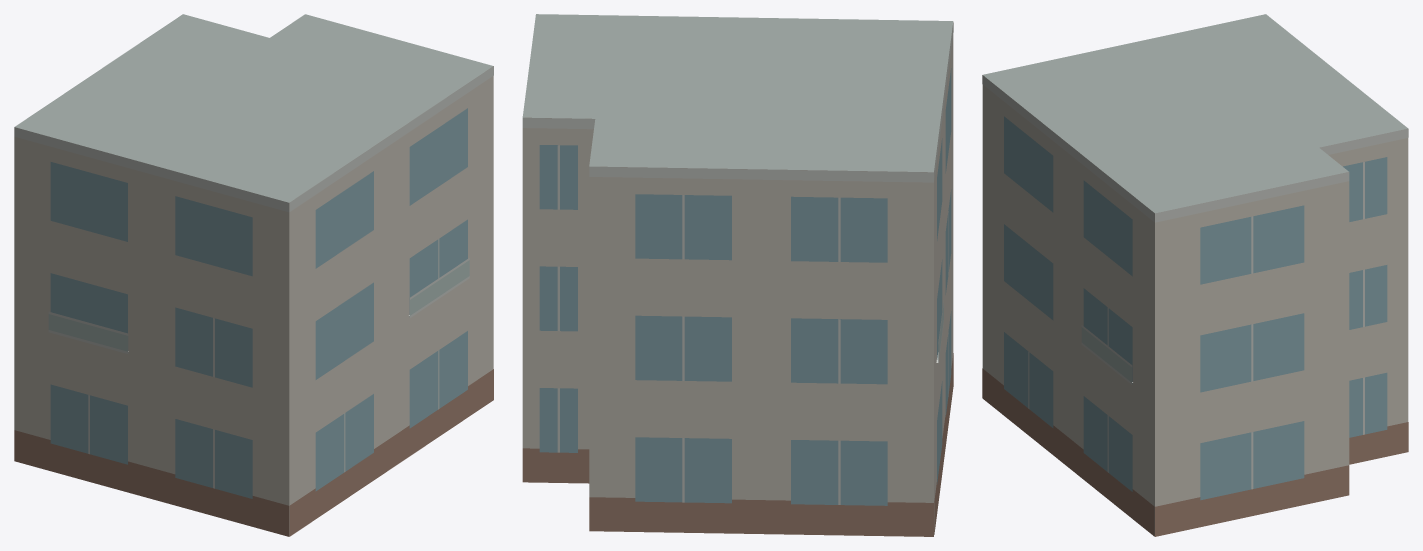
Rendered from survey-upis-32489799.glb.
3 views of the same model, side by side, from view 1: azimuth 30°, elevation 25°; view 2: azimuth 150°, elevation 25°; view 3: azimuth 270°, elevation 25° (orthographic). The views are drawn at different scales.
Visible parts, largest first — view 1: survey-upis-32489799.tmp; view 2: survey-upis-32489799.tmp; view 3: survey-upis-32489799.tmp.
Part boxes in pixels (box(x1,y1,x2,y2)): survey-upis-32489799.tmp: box(14, 14, 493, 536); survey-upis-32489799.tmp: box(522, 14, 953, 536); survey-upis-32489799.tmp: box(982, 14, 1408, 536).
Bounding box in the file's own units: 11.25 × 8.5 × 10.16.
